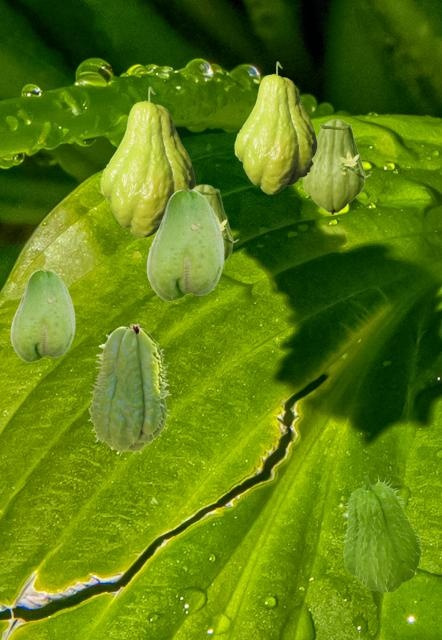sayote: (100, 86, 194, 237), (87, 323, 170, 455), (234, 61, 316, 193), (341, 474, 422, 592), (146, 189, 223, 300), (302, 119, 370, 214), (10, 269, 74, 361), (186, 184, 238, 262)
